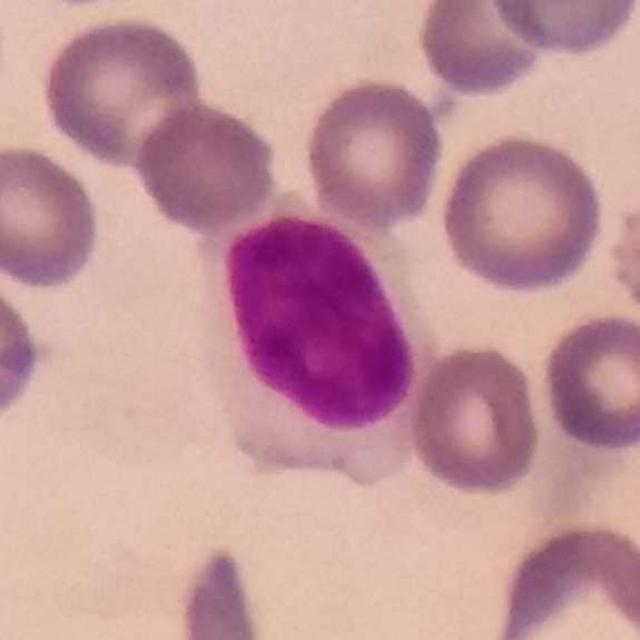Lymphocyte: (200, 180, 438, 490)
RBC: (435, 129, 608, 296), (37, 11, 207, 172), (298, 74, 449, 230), (405, 339, 547, 498), (130, 98, 283, 235), (485, 517, 638, 640), (0, 139, 106, 292), (536, 308, 640, 453), (412, 0, 553, 100), (172, 541, 272, 640), (485, 0, 640, 59), (0, 266, 47, 432), (605, 176, 640, 348), (11, 0, 173, 13)
